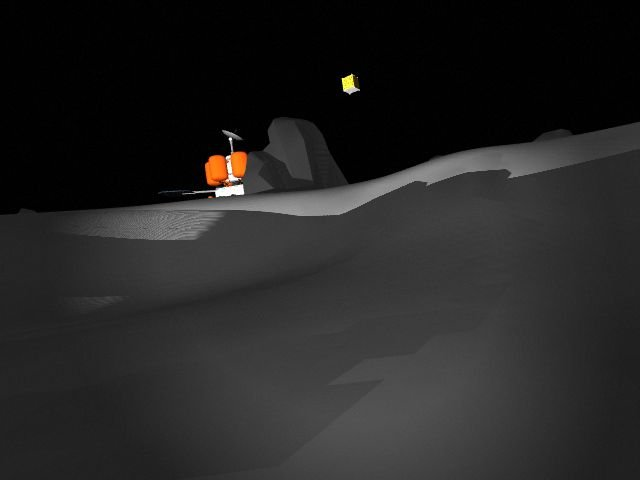cubesat: (335, 70, 371, 101)
